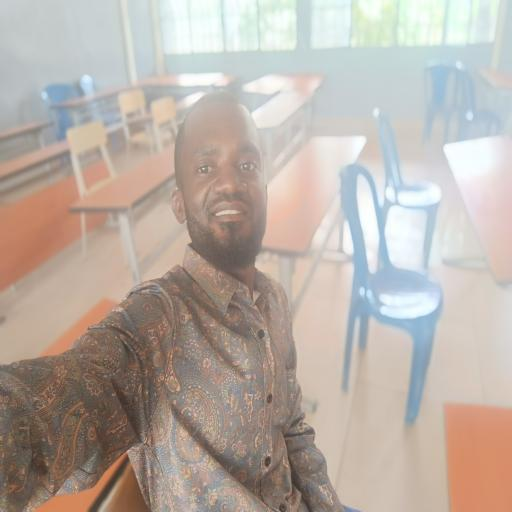MATTHIEU: (178, 88, 272, 286)
